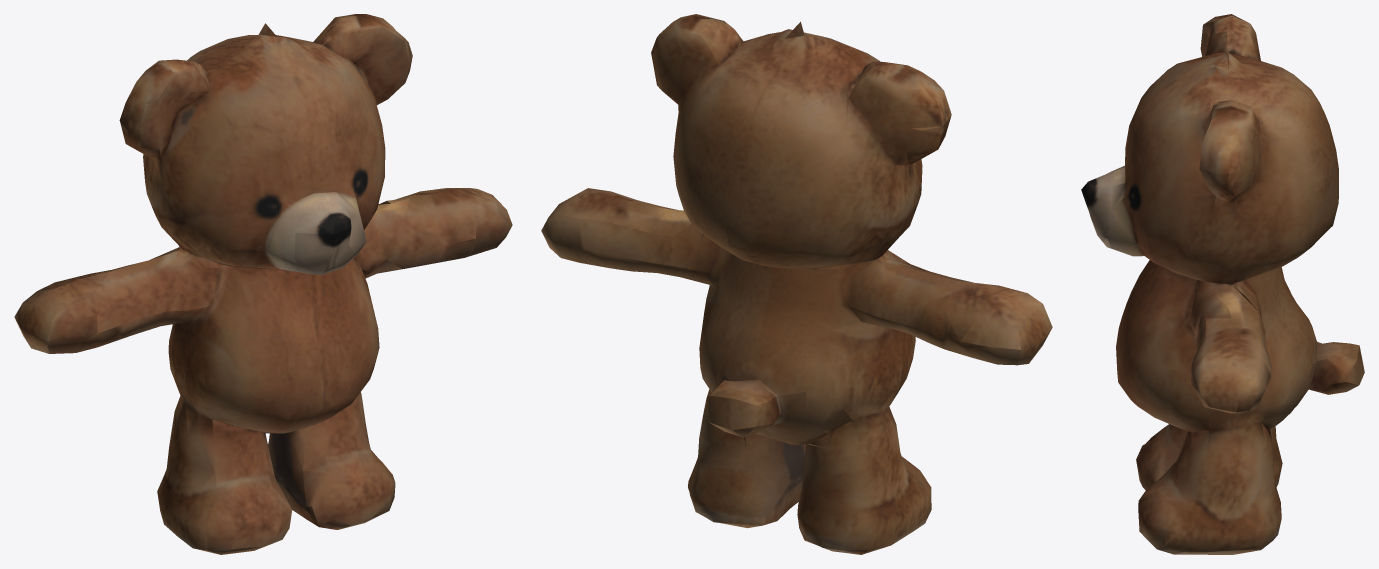
File: teddy.glb
3 renders of one model, left to right at view 1: azimuth 30°, elevation 25°; view 2: azimuth 150°, elevation 25°; view 3: azimuth 270°, elevation 25°, orthographic. The views are drawn at different scales.
Visible parts, largest first — view 1: mesh; view 2: mesh; view 3: mesh.
Boxes of the visible parts, x1,y1,x2,y2 form: mesh: (14,14,512,554); mesh: (541,14,1052,554); mesh: (1081,14,1364,554).
Bounding box in the file's own units: 0.3054 × 0.3 × 0.1633.
Materials: 1 (1 with a texture image).
